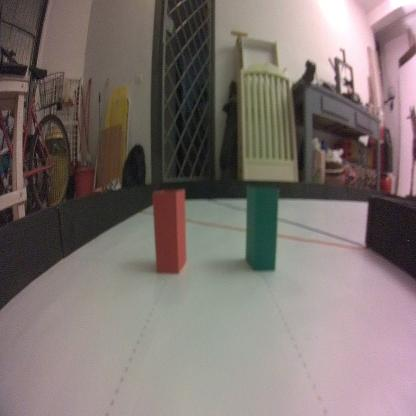green: (244, 180, 281, 276)
red: (151, 183, 189, 276)
